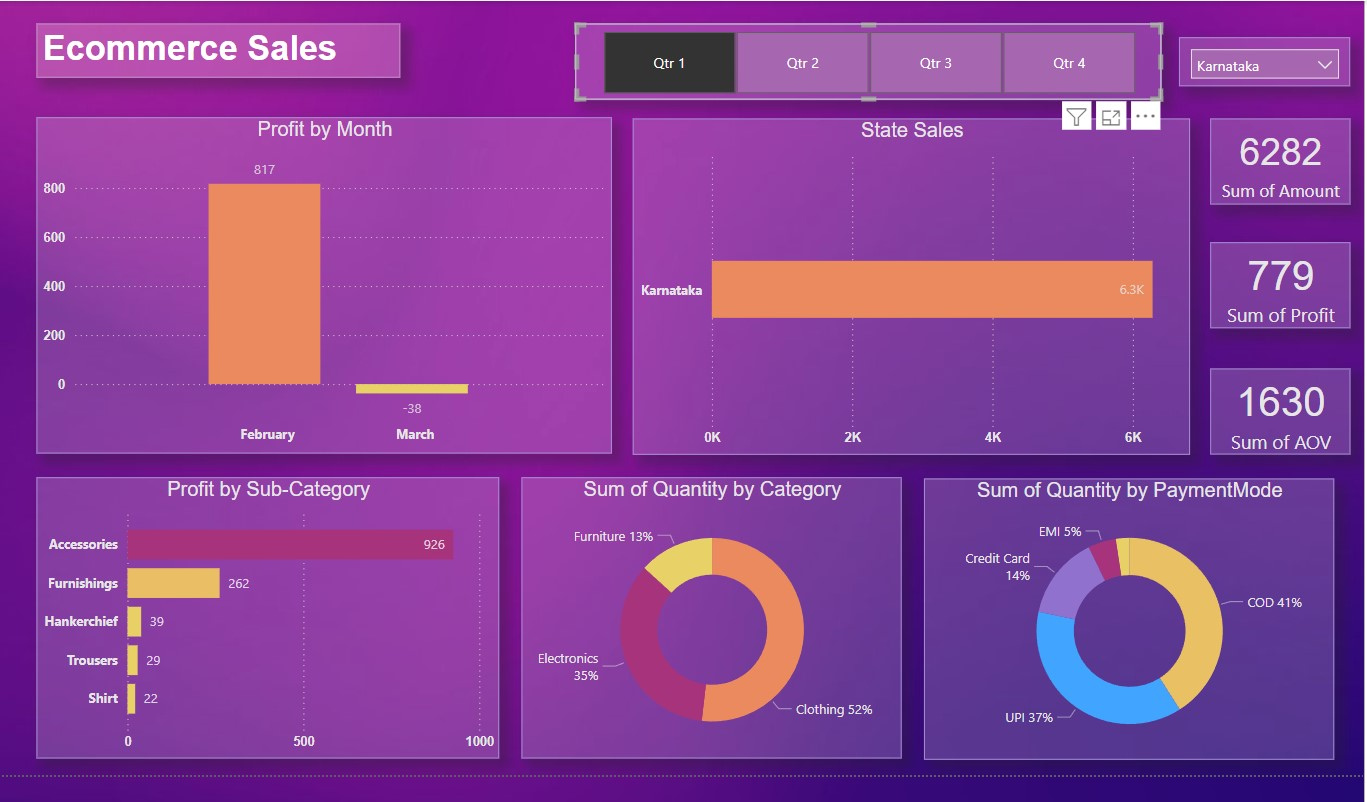

What the dashboard file says about the page in this screenshot:
{"tool":"powerbi","page":{"name":"Page 1","canvas":[1280,720],"ordinal":0},"visuals":[{"type":"textbox","box":[44.2,20.9,338.4,50],"z":0},{"type":"columnChart","title":"Profit by Month","fields":{"Y":["Sum(Details.Profit)"],"Category":["Orders.Order Date.Variation.Date Hierarchy.Month"]},"box":[44.2,108.1,534.9,312.8],"z":1000},{"type":"barChart","title":"Profit by Sub-Category","fields":{"Y":["Sum(Details.Profit)"],"Category":["Details.Sub-Category"]},"box":[44.2,443,430.2,261.6],"z":2000},{"type":"donutChart","fields":{"Category":["Details.Category"],"Y":["Sum(Details.Quantity)"]},"box":[495.4,443,353.5,261.6],"z":3000},{"type":"donutChart","fields":{"Category":["Details.PaymentMode"],"Y":["Sum(Details.Quantity)"]},"box":[869.8,444.2,381.4,261.6],"z":4000},{"type":"card","fields":{"Values":["Sum(Details.Amount)"]},"box":[1136,109.3,130.2,80.2],"z":5000},{"type":"card","fields":{"Values":["Sum(Details.Profit)"]},"box":[1136,224.4,130.2,80.2],"z":6000},{"type":"card","fields":{"Values":["Sum(Details.AOV)"]},"box":[1136,341.9,130.2,80.2],"z":7000},{"type":"barChart","title":"State Sales","fields":{"Category":["Orders.State"],"Y":["Sum(Details.Amount)"]},"box":[598.8,109.3,518.6,312.8],"z":8000},{"type":"slicer","fields":{"Values":["Orders.Order Date.Variation.Date Hierarchy.Quarter"]},"box":[545.4,20.9,545.4,70.9],"z":9000},{"type":"slicer","fields":{"Values":["Orders.State"]},"box":[1107,33.7,159.3,45.3],"z":10000}]}

Visuals, with their boxes in screenshot pixels (x1, y1, x2, y2):
textbox: 27,16,396,70
"Profit by Month" columnChart: 27,111,611,452
"Profit by Sub-Category" barChart: 27,477,497,762
donutChart - Details.Category x Sum(Details.Quantity): 520,477,906,762
donutChart - Details.PaymentMode x Sum(Details.Quantity): 928,478,1345,764
card - Sum(Details.Amount): 1219,112,1361,200
card - Sum(Details.Profit): 1219,238,1361,325
card - Sum(Details.AOV): 1219,366,1361,454
"State Sales" barChart: 632,112,1199,454
slicer - Orders.Order Date.Variation.Date Hierarchy.Quarter: 574,16,1170,93
slicer - Orders.State: 1187,30,1361,79
